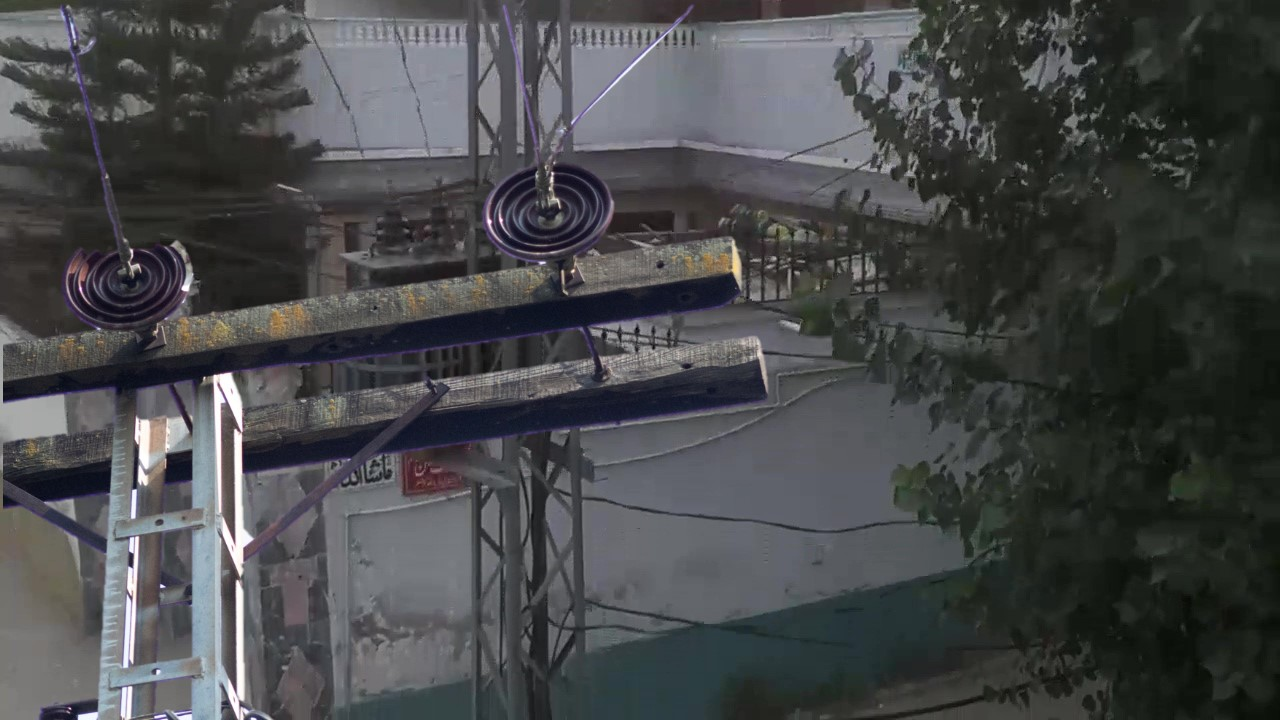defect_disc: (59, 230, 212, 336)
insulator_disc: (480, 156, 622, 271)
